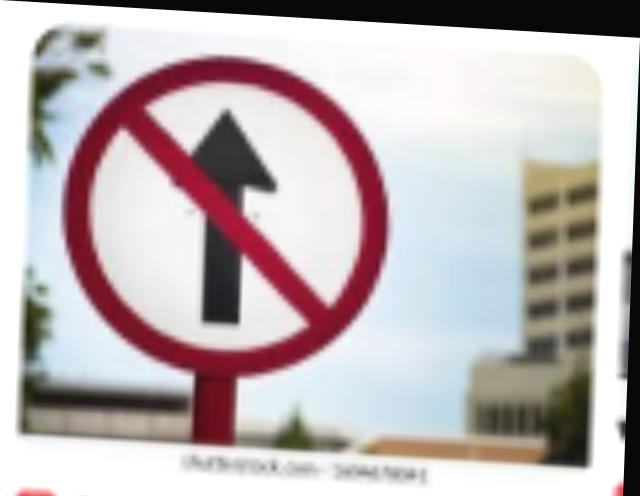not_go_straight: (46, 43, 400, 387)
